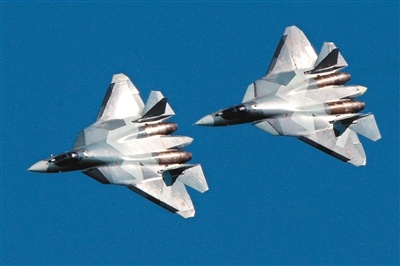airplane: (194, 21, 382, 168), (25, 78, 210, 219)
